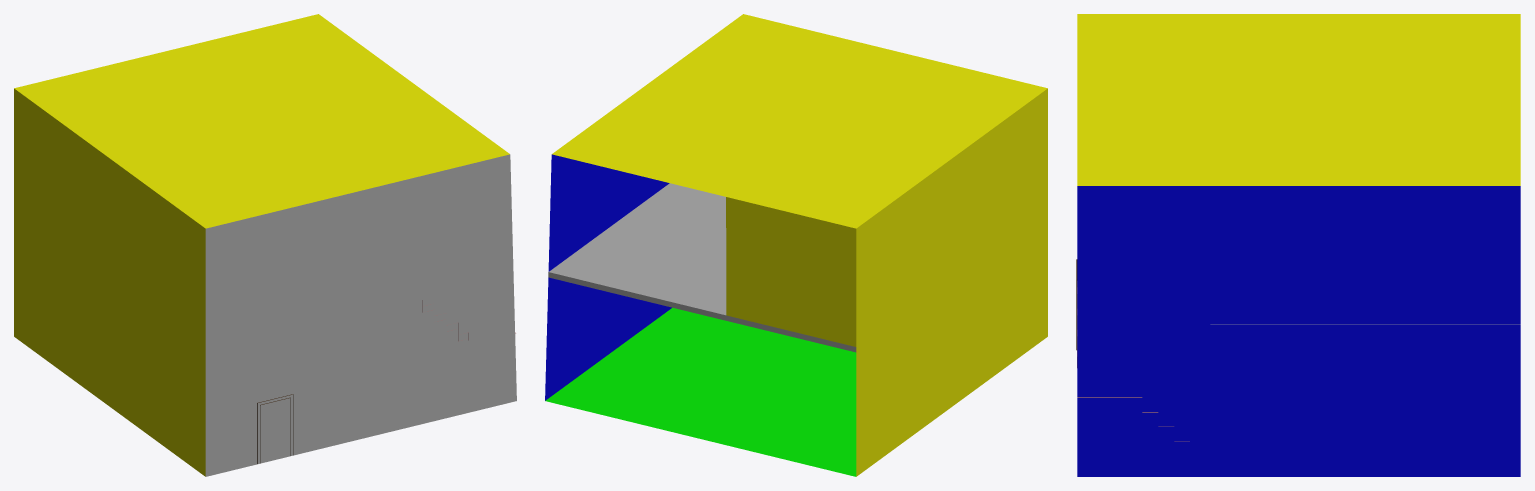
Rendered from barinn_05.fbx.
The picture shows the model from 3 angles, left to right: view 1: azimuth 30°, elevation 25°; view 2: azimuth 150°, elevation 25°; view 3: azimuth 270°, elevation 25°; orthographic projection. The views are drawn at different scales.
Parts seen in each view (by area): view 1: polySurface16; view 2: polySurface16; view 3: polySurface16.
Boxes of the visible parts, left/top/right/bottom form: polySurface16: left=14, top=14, right=516, bottom=476; polySurface16: left=545, top=14, right=1047, bottom=476; polySurface16: left=1076, top=14, right=1520, bottom=476.
Bounding box in the file's own units: 1309 × 998 × 1399.
